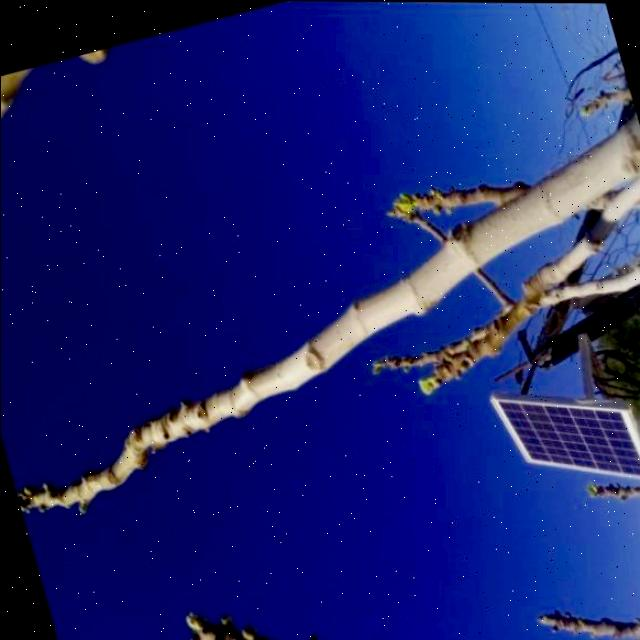Normal Solar Panel: (488, 359, 640, 514)
